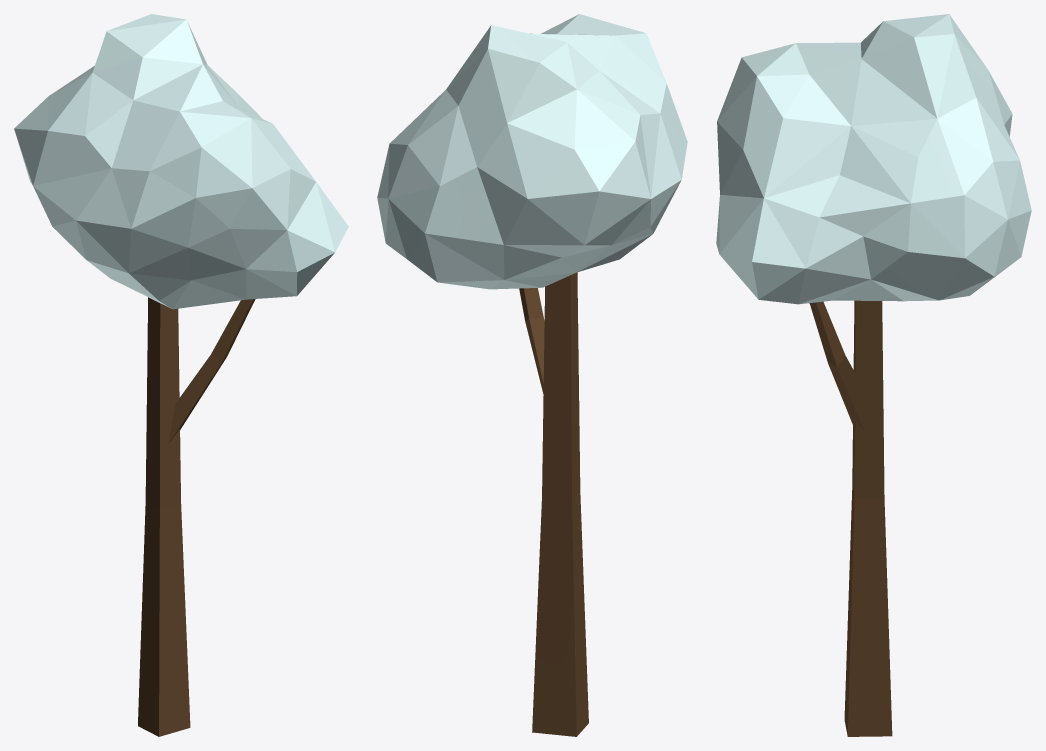
File: tree-tall_white.glb
3 renders of one model, left to right at view 1: azimuth 30°, elevation 25°; view 2: azimuth 150°, elevation 25°; view 3: azimuth 270°, elevation 25°, orthographic. The views are drawn at different scales.
Parts seen in each view (by area): view 1: tree-tall_winter; view 2: tree-tall_winter; view 3: tree-tall_winter.
Boxes of the visible parts, x1,y1,x2,y2 form: tree-tall_winter: [14, 14, 348, 736]; tree-tall_winter: [377, 14, 687, 736]; tree-tall_winter: [716, 14, 1031, 736].
Size of the model in its own units: 2.12 by 5.7 by 2.28.
Materials: 1 (1 with a texture image).
